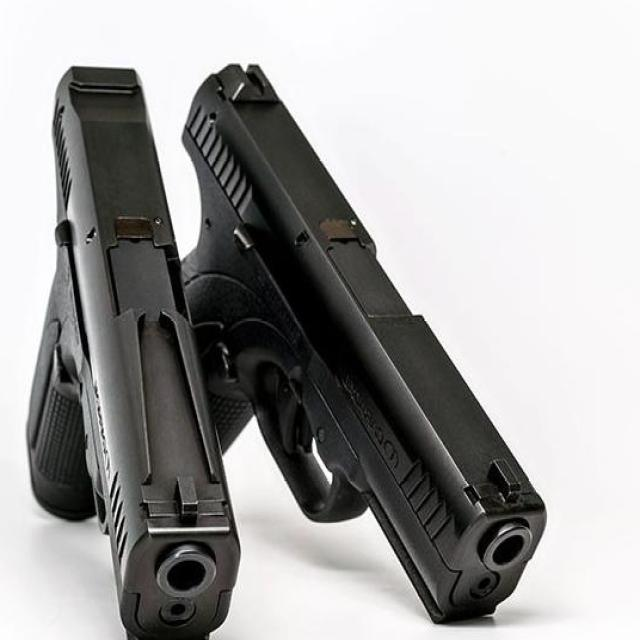Gun: (14, 52, 522, 640)
